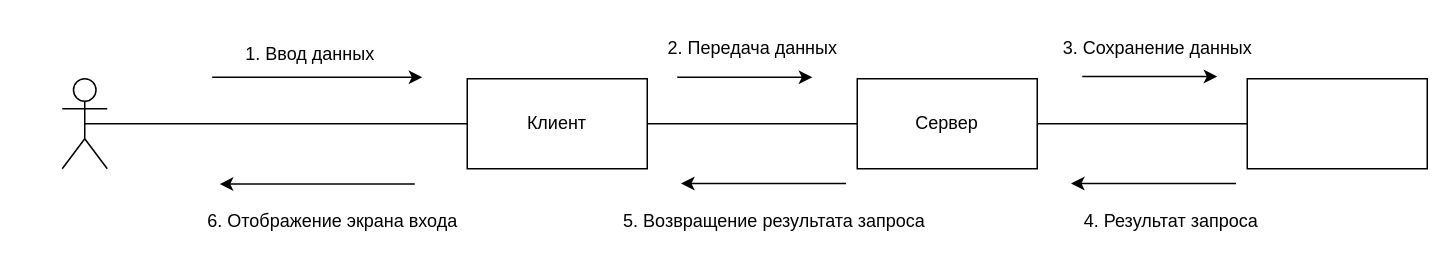
Some shapes in this 1454 by 270 pixel diagram are drawn without their labels. Here are the shapes that lost their labels. From the top down, the centre of each, then its label:
[84,123]: Пользователь
[1336,123]: База данных
